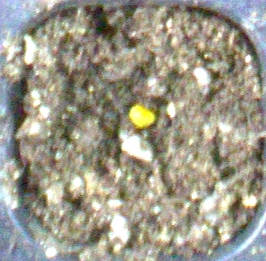pepper seed: (50, 39, 207, 169)
